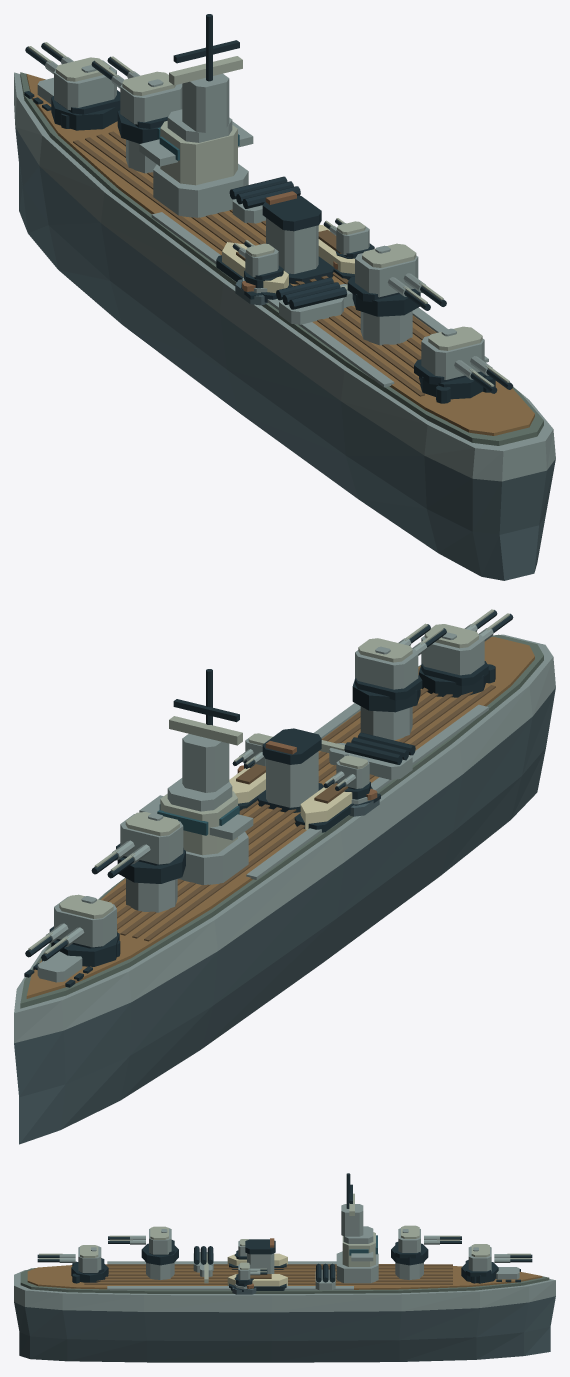
Rendered from historic-achilles.glb.
3 renders of one model, top to bottom at view 1: azimuth 30°, elevation 25°; view 2: azimuth 150°, elevation 25°; view 3: azimuth 270°, elevation 25°, orthographic. The views are drawn at different scales.
Parts seen in each view (by area): view 1: historic-achilles-historic-achilles-geometry, historic-achilles-part_bridge.059-geometry, historic-achilles-turret_main_2.043-geometry, historic-achilles-turret_main_0.050-geometry, historic-achilles-turret_main_3.025-geometry, historic-achilles-historic_funnel_0.061-geometry, historic-achilles-turret_main_1.048-geometry, historic-achilles-torpedo_bank_0.019-geometry, historic-achilles-torpedo_bank_1.016-geometry, historic-achilles-turret_aa_aa-port.062-geometry, historic-achilles-turret_aa_aa-starboard.059-geometry; view 2: historic-achilles-historic-achilles-geometry, historic-achilles-part_bridge.059-geometry, historic-achilles-turret_main_2.043-geometry, historic-achilles-turret_main_1.048-geometry, historic-achilles-turret_main_3.025-geometry, historic-achilles-turret_main_0.050-geometry, historic-achilles-historic_funnel_0.061-geometry, historic-achilles-torpedo_bank_0.019-geometry, historic-achilles-turret_aa_aa-port.062-geometry, historic-achilles-turret_aa_aa-starboard.059-geometry; view 3: historic-achilles-historic-achilles-geometry, historic-achilles-part_bridge.059-geometry, historic-achilles-turret_main_1.048-geometry, historic-achilles-turret_main_2.043-geometry, historic-achilles-turret_main_0.050-geometry, historic-achilles-turret_main_3.025-geometry, historic-achilles-historic_funnel_0.061-geometry, historic-achilles-torpedo_bank_1.016-geometry, historic-achilles-turret_aa_aa-starboard.059-geometry, historic-achilles-torpedo_bank_0.019-geometry.
Boxes of the visible parts, box(x1,y1,x2,y2) form: historic-achilles-historic-achilles-geometry: box(14, 72, 555, 580); historic-achilles-part_bridge.059-geometry: box(139, 14, 253, 217); historic-achilles-turret_main_2.043-geometry: box(347, 243, 446, 316); historic-achilles-turret_main_0.050-geometry: box(25, 42, 120, 130); historic-achilles-turret_main_3.025-geometry: box(414, 326, 513, 399); historic-achilles-historic_funnel_0.061-geometry: box(262, 191, 334, 284); historic-achilles-turret_main_1.048-geometry: box(91, 56, 182, 143); historic-achilles-torpedo_bank_0.019-geometry: box(276, 277, 347, 324); historic-achilles-torpedo_bank_1.016-geometry: box(229, 176, 300, 223); historic-achilles-turret_aa_aa-port.062-geometry: box(232, 240, 283, 288); historic-achilles-turret_aa_aa-starboard.059-geometry: box(323, 218, 374, 258); historic-achilles-historic-achilles-geometry: box(14, 634, 555, 1144); historic-achilles-part_bridge.059-geometry: box(139, 669, 253, 884); historic-achilles-turret_main_2.043-geometry: box(352, 623, 446, 712); historic-achilles-turret_main_1.048-geometry: box(91, 812, 185, 883); historic-achilles-turret_main_3.025-geometry: box(419, 609, 513, 697); historic-achilles-turret_main_0.050-geometry: box(25, 894, 119, 966); historic-achilles-historic_funnel_0.061-geometry: box(257, 728, 323, 812); historic-achilles-torpedo_bank_0.019-geometry: box(344, 732, 415, 779); historic-achilles-turret_aa_aa-port.062-geometry: box(323, 755, 370, 799); historic-achilles-turret_aa_aa-starboard.059-geometry: box(232, 733, 272, 768); historic-achilles-historic-achilles-geometry: box(14, 1253, 555, 1362); historic-achilles-part_bridge.059-geometry: box(336, 1173, 378, 1283); historic-achilles-turret_main_1.048-geometry: box(391, 1225, 461, 1265); historic-achilles-turret_main_2.043-geometry: box(108, 1226, 178, 1265); historic-achilles-turret_main_0.050-geometry: box(461, 1244, 532, 1283); historic-achilles-turret_main_3.025-geometry: box(37, 1245, 108, 1282); historic-achilles-historic_funnel_0.061-geometry: box(245, 1238, 275, 1273); historic-achilles-torpedo_bank_1.016-geometry: box(315, 1263, 335, 1290); historic-achilles-turret_aa_aa-starboard.059-geometry: box(234, 1262, 267, 1286); historic-achilles-torpedo_bank_0.019-geometry: box(193, 1246, 213, 1272).
Bounding box in the file's own units: 0.6426 × 1.56 × 4.32.
